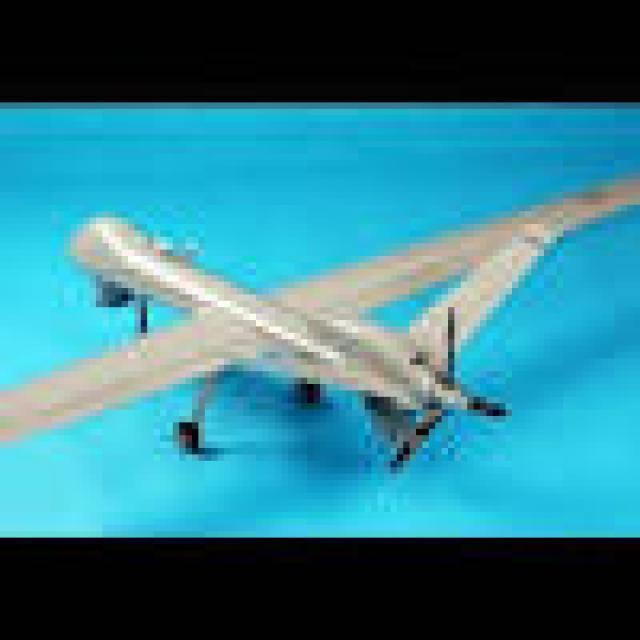UAV: (59, 188, 489, 440)
